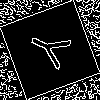Y: (25, 25, 80, 75)
